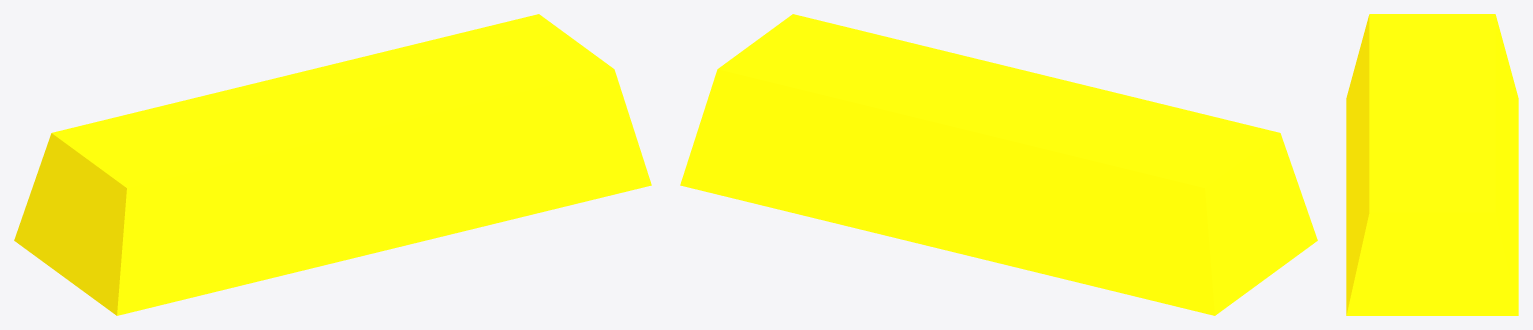
File: ingot.fbx
3 renders of one model, left to right at view 1: azimuth 30°, elevation 25°; view 2: azimuth 150°, elevation 25°; view 3: azimuth 270°, elevation 25°, orthographic. The views are drawn at different scales.
Visible parts, largest first — view 1: ingot; view 2: ingot; view 3: ingot.
Part boxes in pixels (<box>): ingot: <box>14,14,651,315</box>; ingot: <box>680,14,1317,315</box>; ingot: <box>1346,14,1518,315</box>.
Size of the model in its own units: 30 by 6 by 10.
